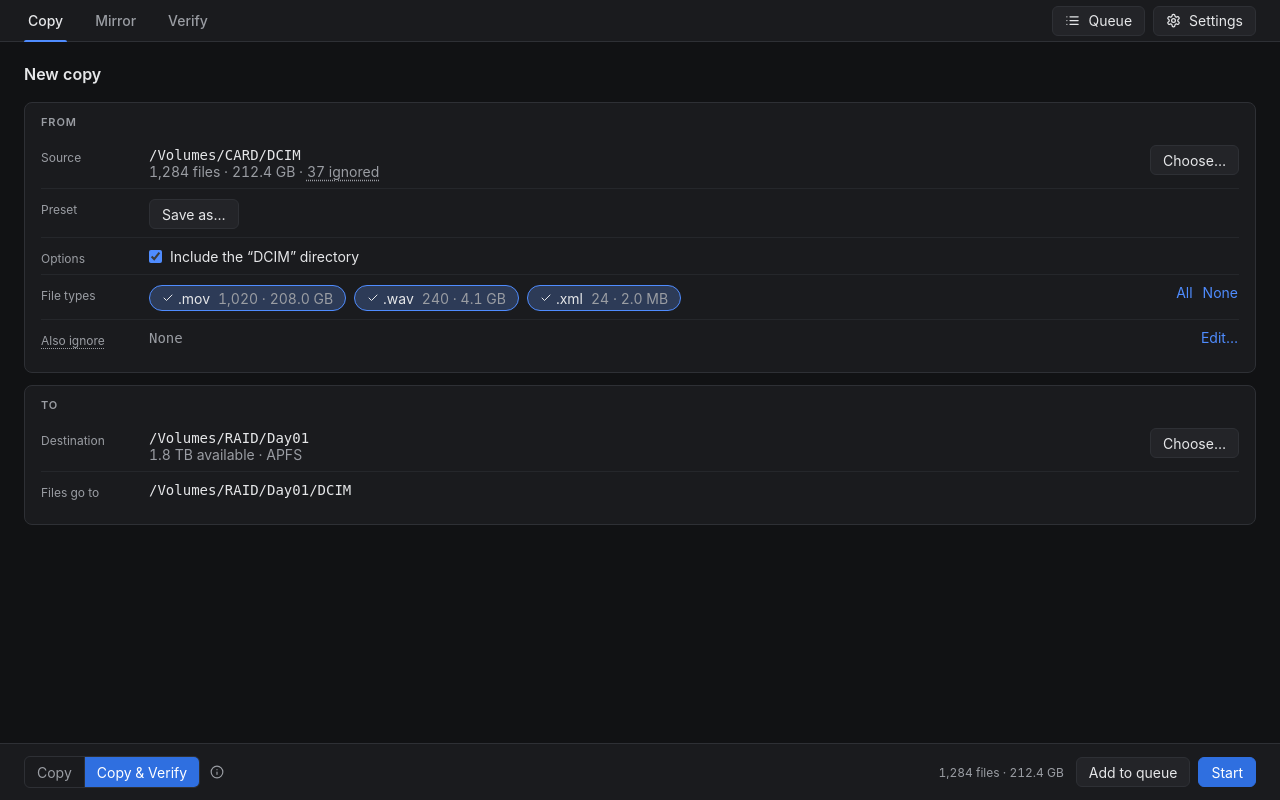
Test: App › a copy names its source and where its files go (#208)
Click the button "Start" at (1227, 772), box left=1198, top=757, right=1256, bottom=787
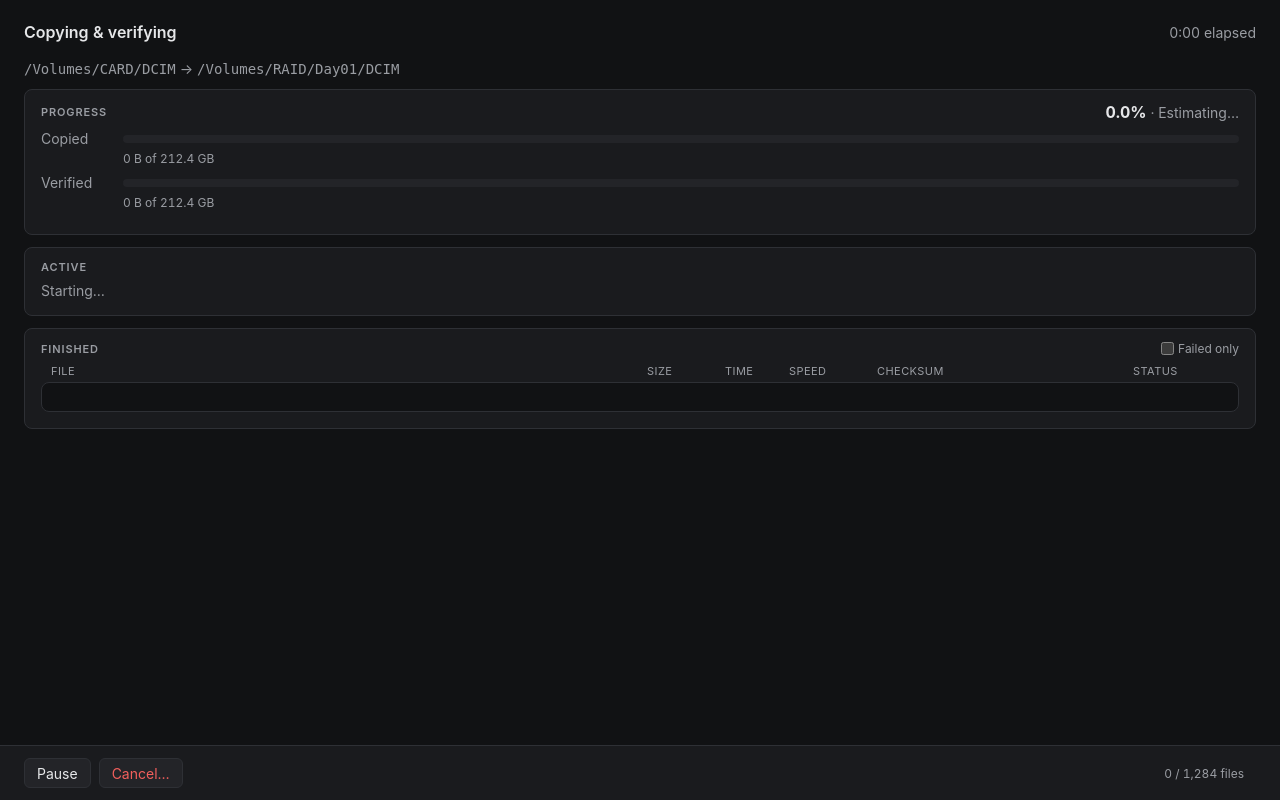
Expected: the heading "Copying & verifying" is shown, left=24, top=22, right=177, bottom=42
Expected: the element named "Job" reads "/Volumes/CARD/DCIM → /Volumes/RAID/Day01/DCIM", left=24, top=60, right=399, bottom=77
